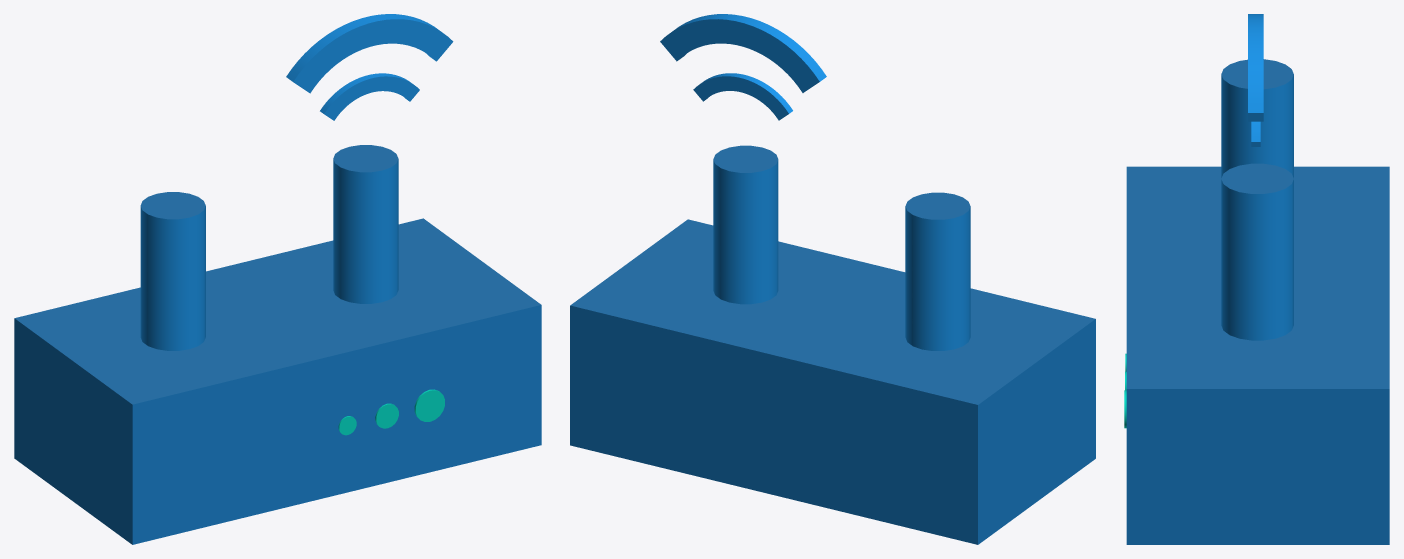
Rendered from router.gltf.
The picture shows the model from 3 angles, left to right: view 1: azimuth 30°, elevation 25°; view 2: azimuth 150°, elevation 25°; view 3: azimuth 270°, elevation 25°; orthographic projection. The views are drawn at different scales.
Visible parts, largest first — view 1: Box276, 对象409, Cylinder037, Cylinder036, Arc001, Arc002, 对象411, 对象412, Cylinder035; view 2: Box276, 对象409, Cylinder036, Cylinder037, Arc001, Arc002, 对象412, 对象411; view 3: 对象409, Box276, Cylinder037, Cylinder036, 对象411, Arc001, 对象412.
Boxes of the visible parts, <box> form: Box276: <box>14,305,541,544</box>; 对象409: <box>14,218,541,404</box>; Cylinder037: <box>333,159,398,303</box>; Cylinder036: <box>140,206,205,350</box>; Arc001: <box>286,14,453,93</box>; Arc002: <box>320,73,419,120</box>; 对象411: <box>333,145,398,172</box>; 对象412: <box>140,192,205,219</box>; Cylinder035: <box>414,389,444,421</box>; Box276: <box>570,305,1095,544</box>; 对象409: <box>570,219,1095,404</box>; Cylinder036: <box>905,206,970,350</box>; Cylinder037: <box>713,160,778,304</box>; Arc001: <box>660,14,826,92</box>; Arc002: <box>693,73,792,120</box>; 对象412: <box>905,192,970,219</box>; 对象411: <box>713,145,778,172</box>; 对象409: <box>1126,166,1389,388</box>; Box276: <box>1126,389,1389,544</box>; Cylinder037: <box>1221,179,1293,340</box>; Cylinder036: <box>1221,75,1293,178</box>; 对象411: <box>1221,163,1293,193</box>; Arc001: <box>1248,14,1263,121</box>; 对象412: <box>1221,59,1293,89</box>.
Size of the model in its own units: 0.672 by 0.6449 by 0.3391.
